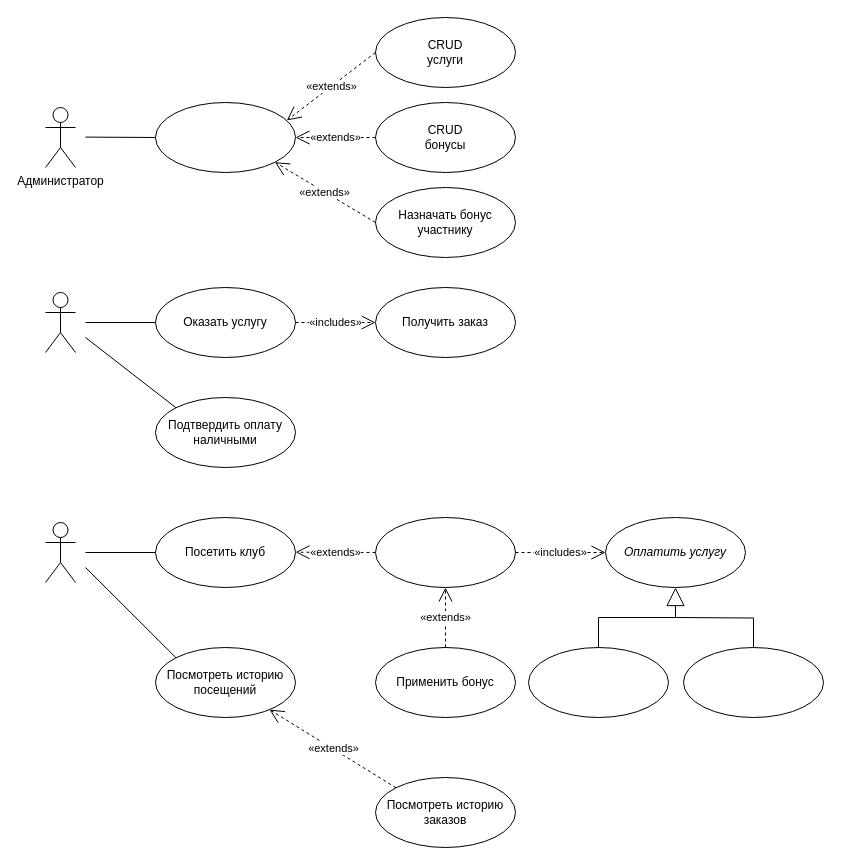
The diagram is 841 pixels wide and 865 high, and some of its shapes have lost their labels. Each missing label, with the box of its shape:
Администрировать услуги и бонусы: (154, 102, 296, 172)
Заказать услугу: (374, 516, 516, 588)
Оплатить услугу банковской картой: (682, 646, 824, 718)
Оплатить услугу наличными: (528, 646, 668, 718)
Персонал: (44, 292, 76, 352)
Участник: (44, 522, 76, 582)
